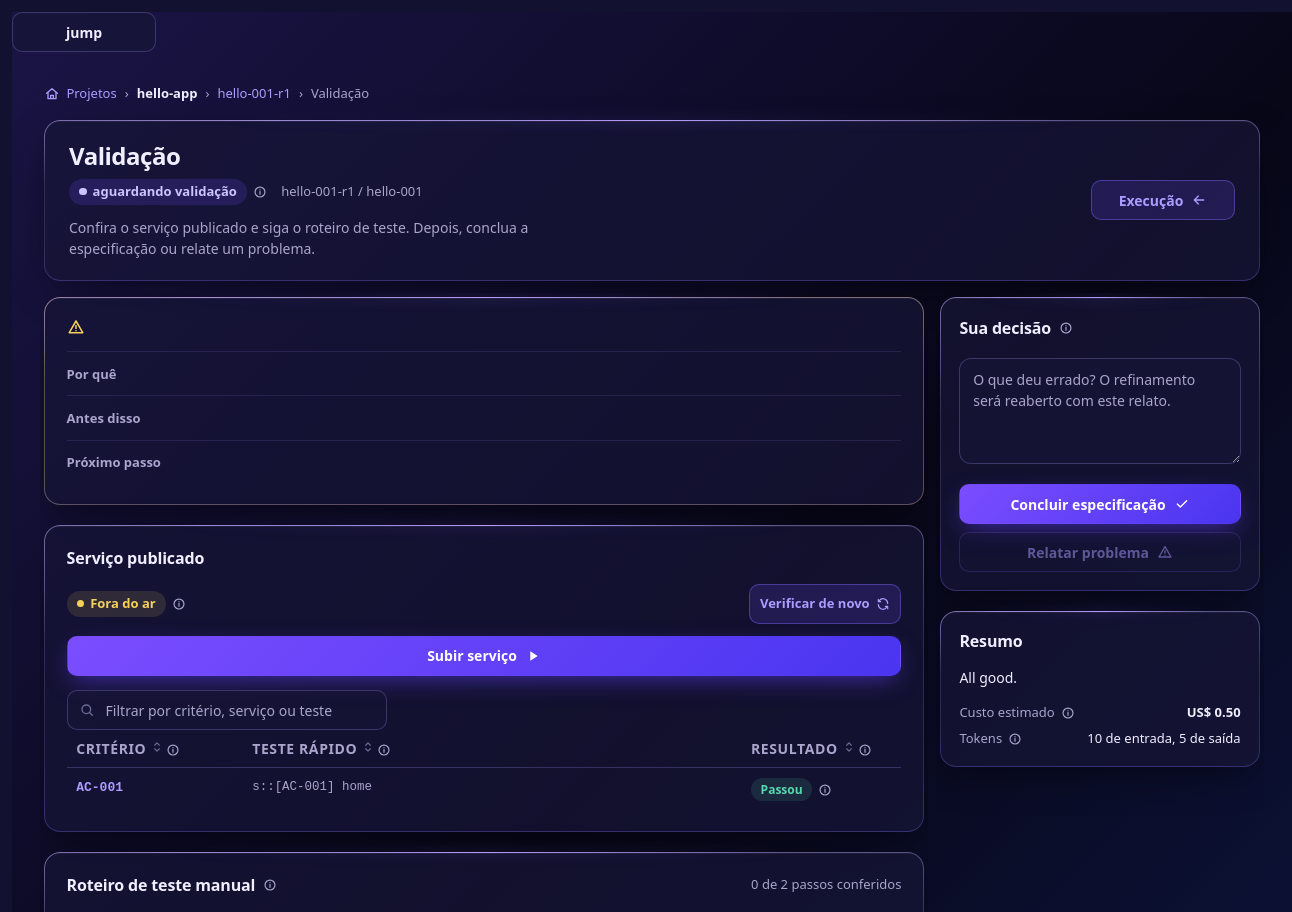
Test: ValidationPage › Subir serviço › shows how the deploy run ended when it did not come up
Click the button with test id "start-service".
click(484, 656)  # box x1=67 y1=636 x2=901 y2=676
Wait 4000 ms
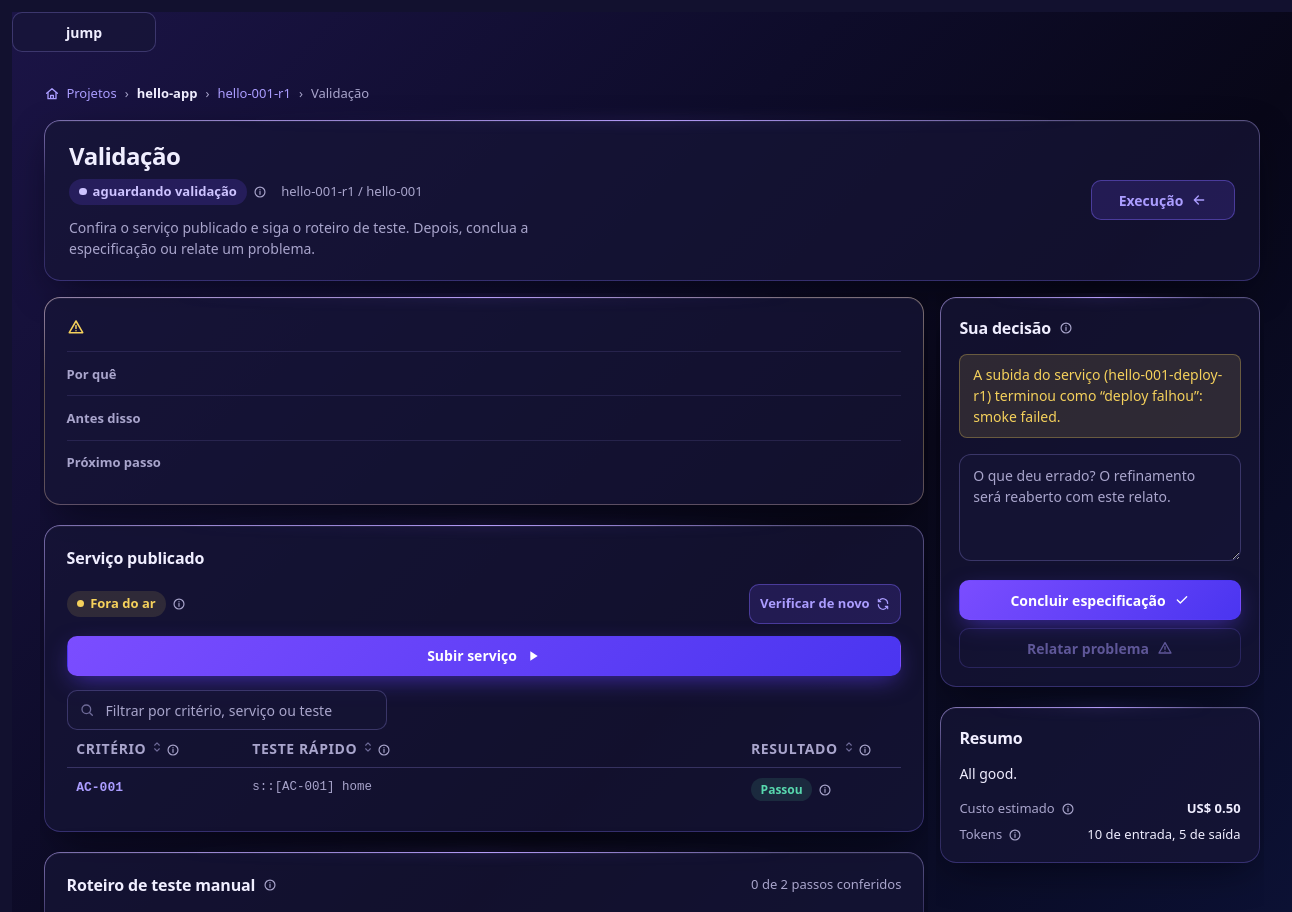
Result: the text with test id "action-error" shows "hello-001-deploy-r1" at x1=973 y1=365 x2=1222 y2=426
Result: the text with test id "action-error" shows "deploy falhou" at x1=973 y1=365 x2=1222 y2=426
Result: the text with test id "action-error" shows "smoke failed" at x1=973 y1=365 x2=1222 y2=426
